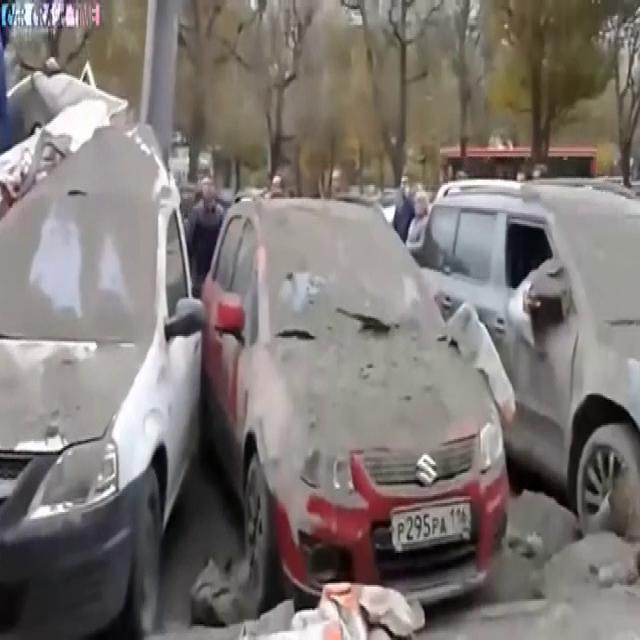accident: (0, 67, 226, 389)
